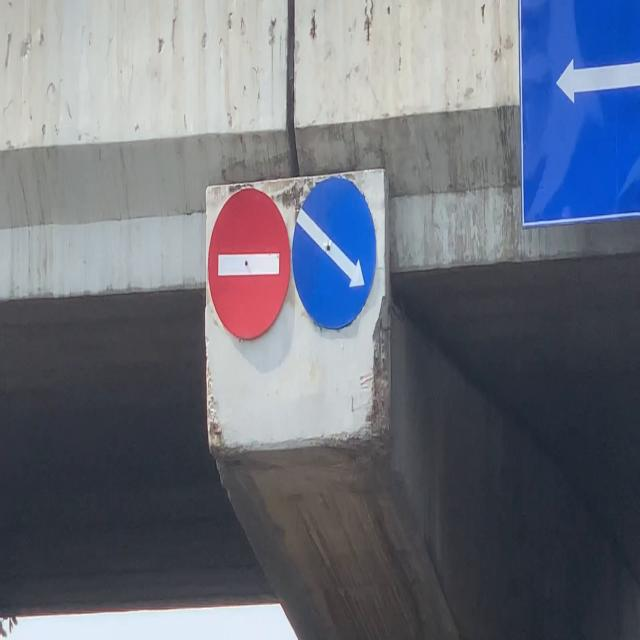Cam nguoc chieu: (208, 188, 290, 341)
Hieu lenh: (292, 176, 376, 330)
